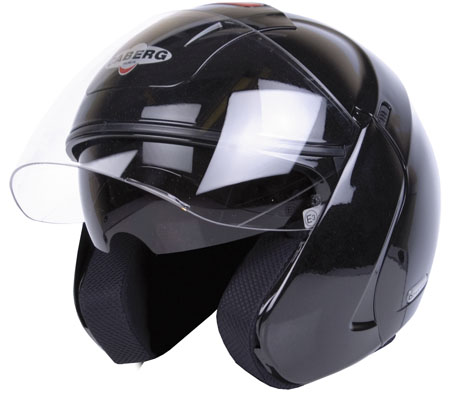helmet: (79, 16, 425, 362)
